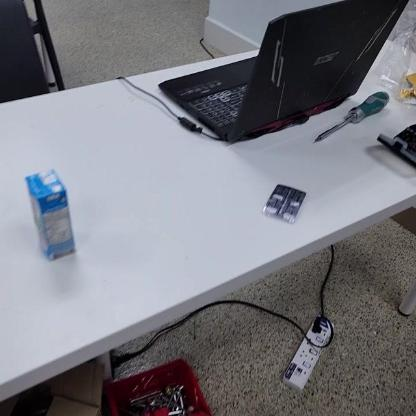Others: (20, 156, 82, 272)
